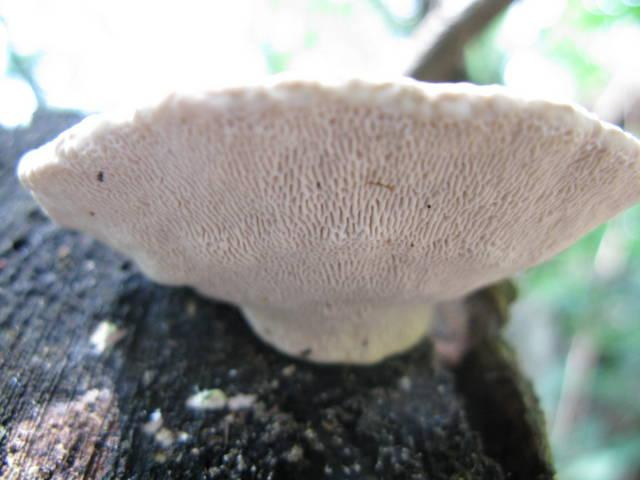Non-edible Mushroom: (15, 73, 639, 369)
